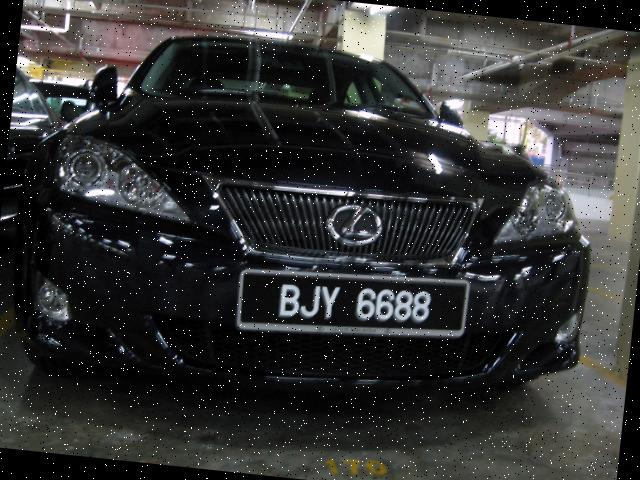License_Plate: (256, 272, 465, 344)
